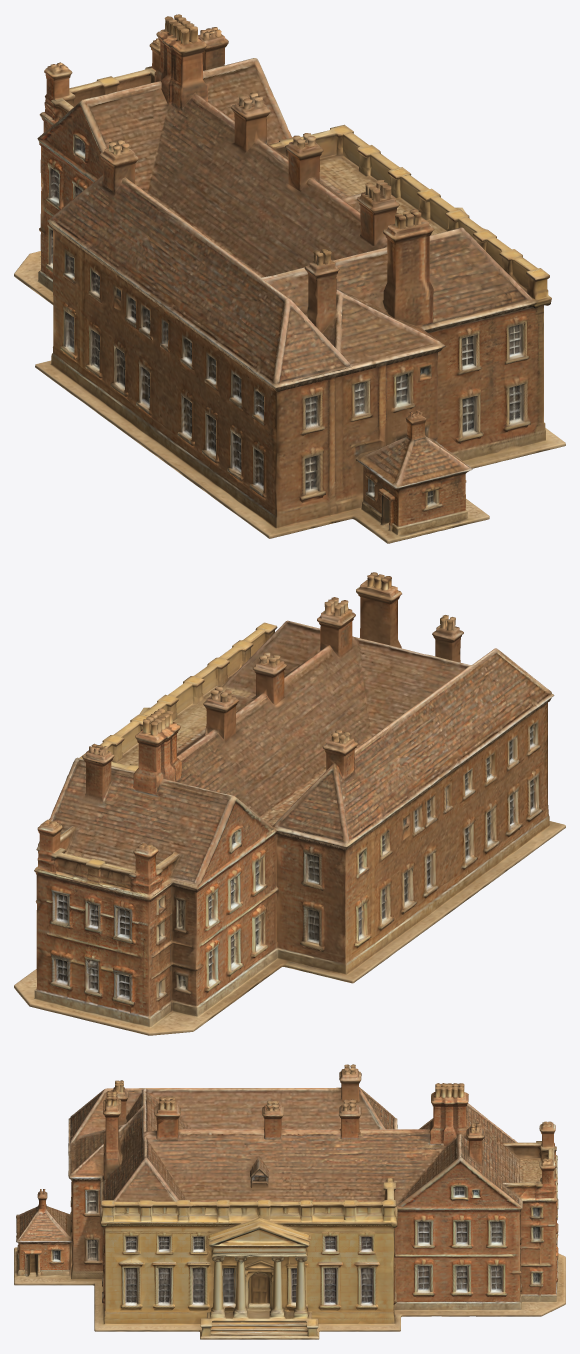
File: hall-front.glb
3 views of the same model, one above another, from view 1: azimuth 30°, elevation 25°; view 2: azimuth 150°, elevation 25°; view 3: azimuth 270°, elevation 25° (orthographic). The views are drawn at different scales.
Parts seen in each view (by area): view 1: tripo_node_f1b11a44-affc-49e7-b6ce-d0d73a109755; view 2: tripo_node_f1b11a44-affc-49e7-b6ce-d0d73a109755; view 3: tripo_node_f1b11a44-affc-49e7-b6ce-d0d73a109755.
Part boxes in pixels (box(x1,y1,x2,y2)): tripo_node_f1b11a44-affc-49e7-b6ce-d0d73a109755: box(14, 14, 565, 543); tripo_node_f1b11a44-affc-49e7-b6ce-d0d73a109755: box(14, 572, 565, 1035); tripo_node_f1b11a44-affc-49e7-b6ce-d0d73a109755: box(14, 1064, 565, 1339).
Size of the model in its own units: 15.58 by 12 by 30.36.
1 material, 1 textured.
